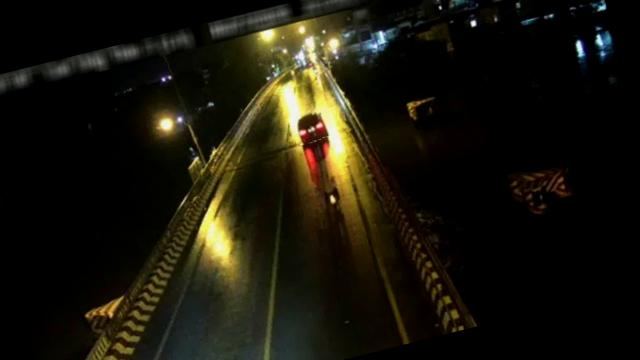Car: (289, 108, 331, 146)
